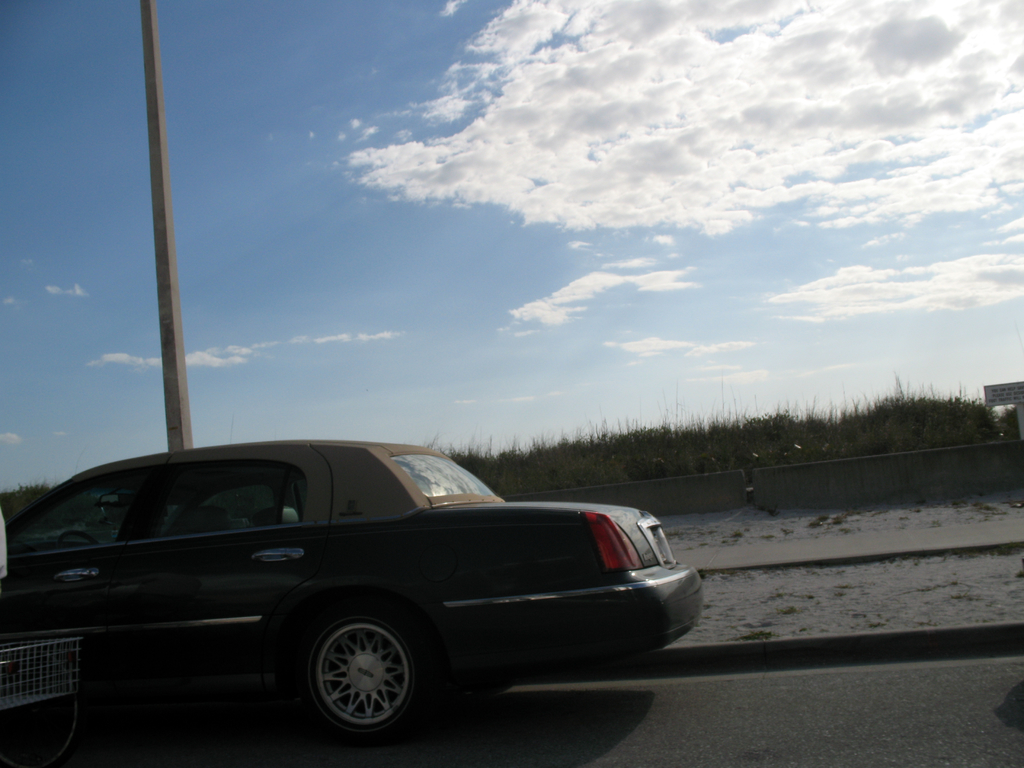Car: (0, 439, 705, 750)
